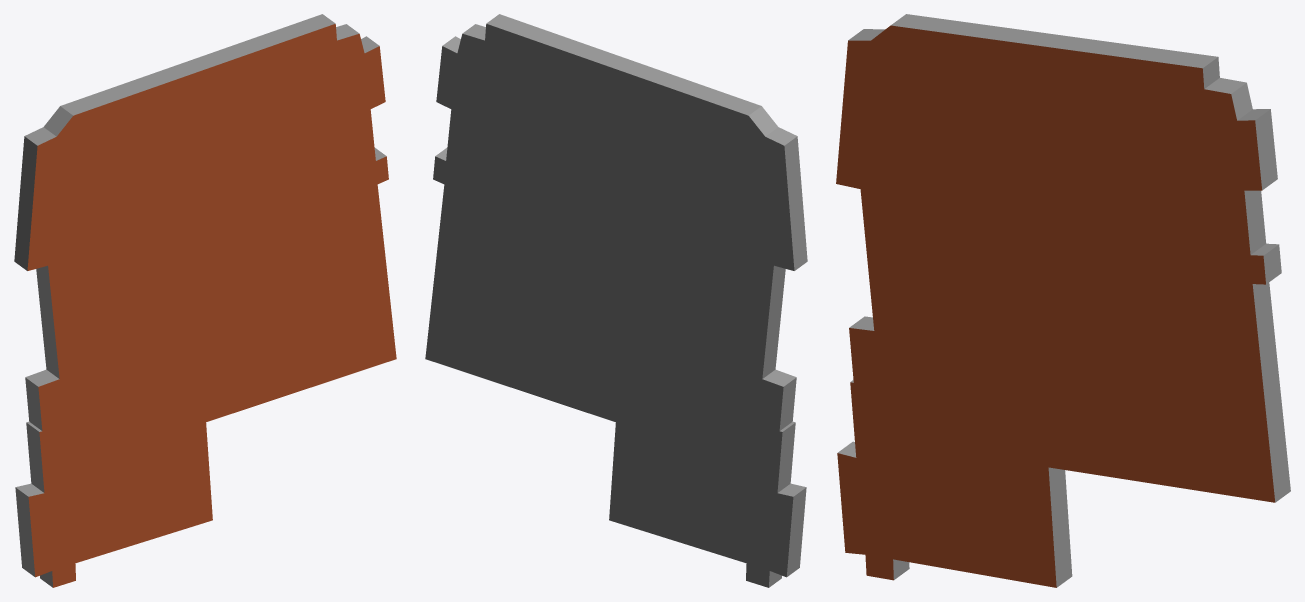
The model's file is construction_0128_assumed_A_Grande_construcao_h6m.obj.
3 views of the same model, side by side, from view 1: azimuth 30°, elevation 25°; view 2: azimuth 150°, elevation 25°; view 3: azimuth 330°, elevation 25° (orthographic). The views are drawn at different scales.
Parts seen in each view (by area): view 1: construction_0128_assumed_A_Grande_construcao; view 2: construction_0128_assumed_A_Grande_construcao; view 3: construction_0128_assumed_A_Grande_construcao.
Part boxes in pixels (x1,y1,x2,y2): construction_0128_assumed_A_Grande_construcao: (14, 14, 396, 587); construction_0128_assumed_A_Grande_construcao: (425, 14, 807, 587); construction_0128_assumed_A_Grande_construcao: (836, 14, 1290, 587).
Size of the model in its own units: 97.07 by 124 by 6.
